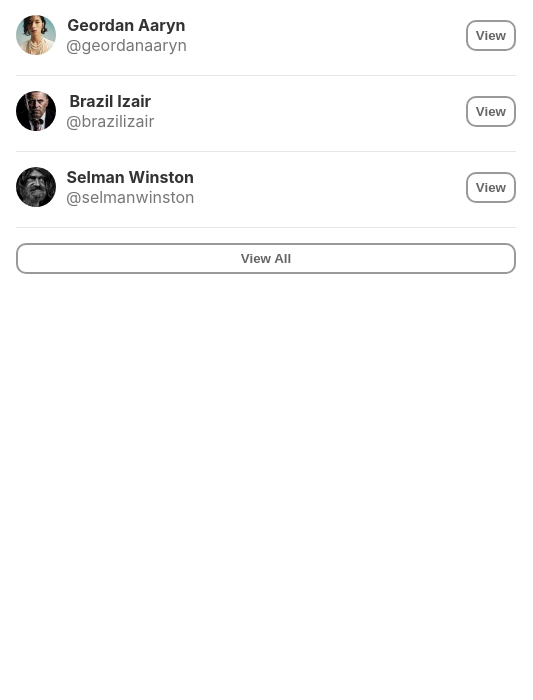
Test: <ListItem /> renders › does not render View All button after clicking on it
Click the button "View All".
click(266, 258)  # box [16, 243, 516, 274]
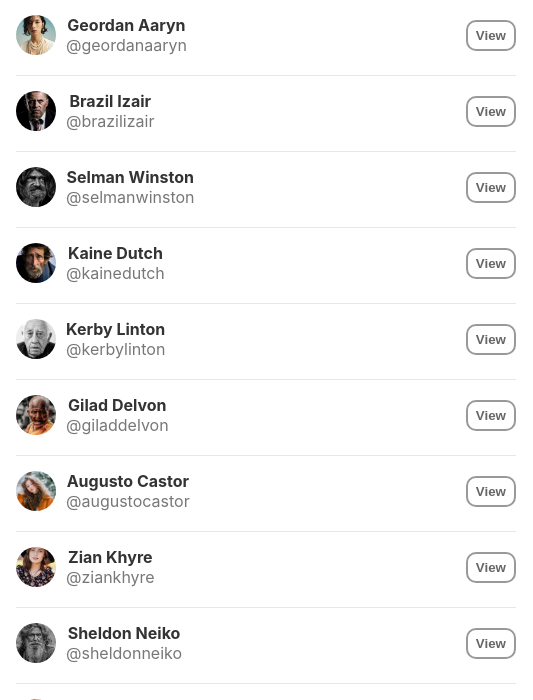
Expected: the button "View All" is gone
